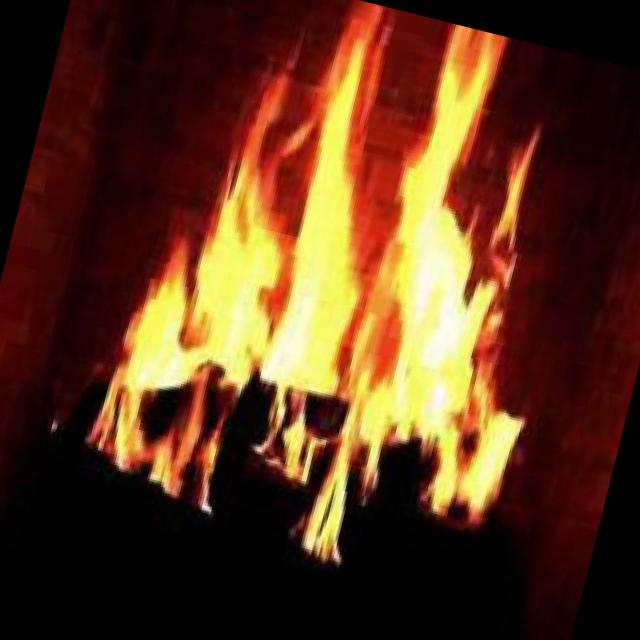Fire: (42, 0, 624, 619)
